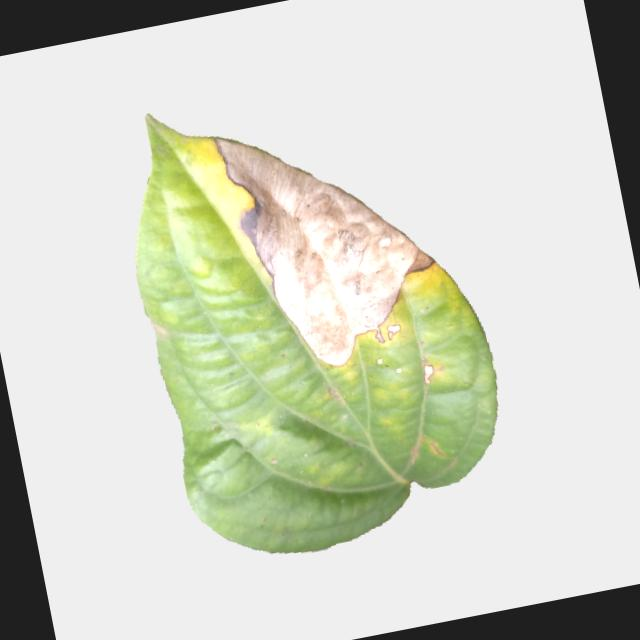leaf-blight: (90, 49, 528, 582)
